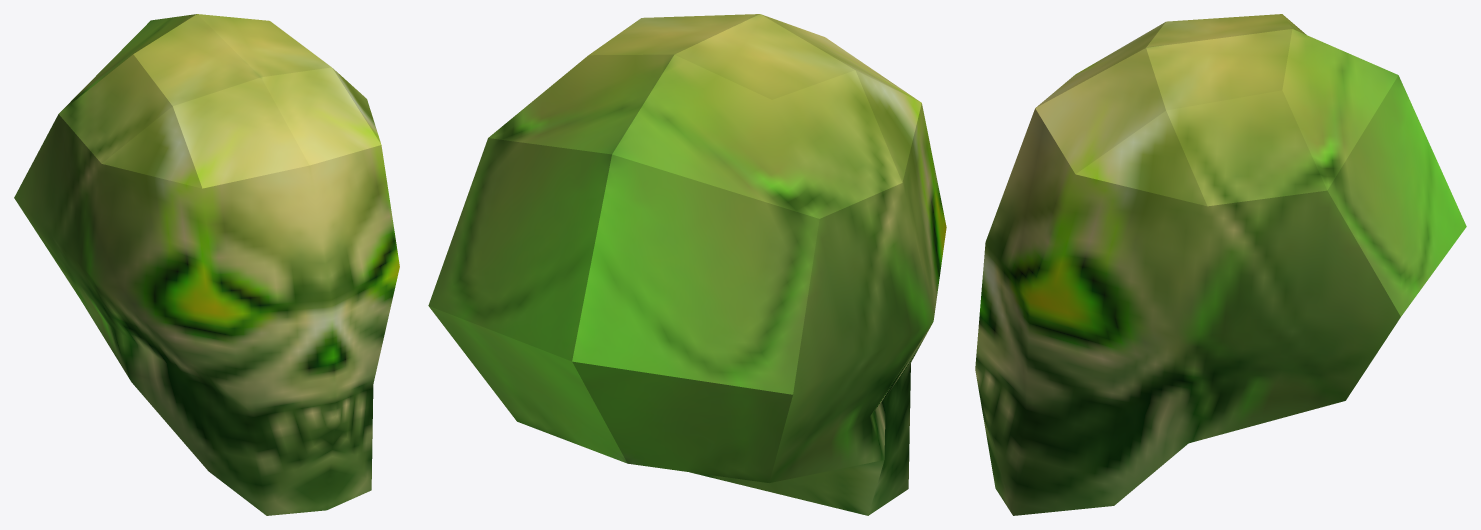
3 views of the same model, side by side, from view 1: azimuth 30°, elevation 25°; view 2: azimuth 150°, elevation 25°; view 3: azimuth 270°, elevation 25° (orthographic). The views are drawn at different scales.
Visible parts, largest first — view 1: WeaponLeft; view 2: WeaponLeft; view 3: WeaponLeft.
Boxes of the visible parts, x1=… form: WeaponLeft: x1=14, y1=14, x2=399, y2=515; WeaponLeft: x1=428, y1=14, x2=946, y2=515; WeaponLeft: x1=975, y1=14, x2=1466, y2=515.
Bounding box in the file's own units: 0.2676 × 0.3459 × 0.3353.
Materials: 1 (1 with a texture image).
